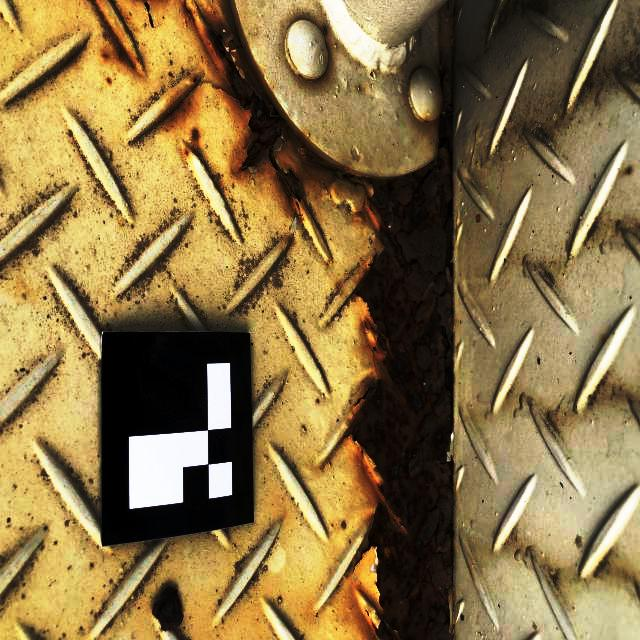Corrosion: (165, 0, 455, 640), (100, 5, 142, 71), (183, 127, 200, 158), (143, 0, 155, 29), (107, 76, 111, 85)
